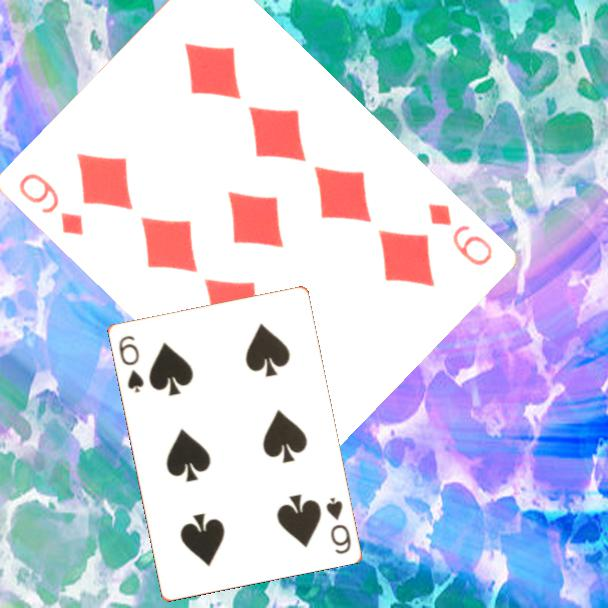d09: (14, 169, 87, 239), (423, 199, 495, 269)
s06: (322, 493, 354, 557), (115, 332, 146, 396)
